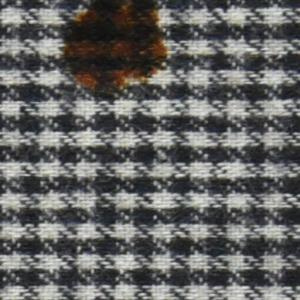Oil Stain: (61, 1, 172, 101)
